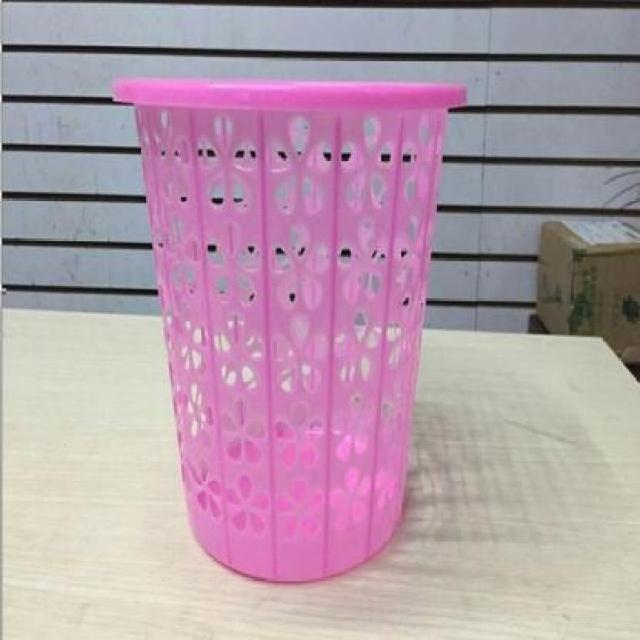dustbin: (108, 69, 474, 592)
